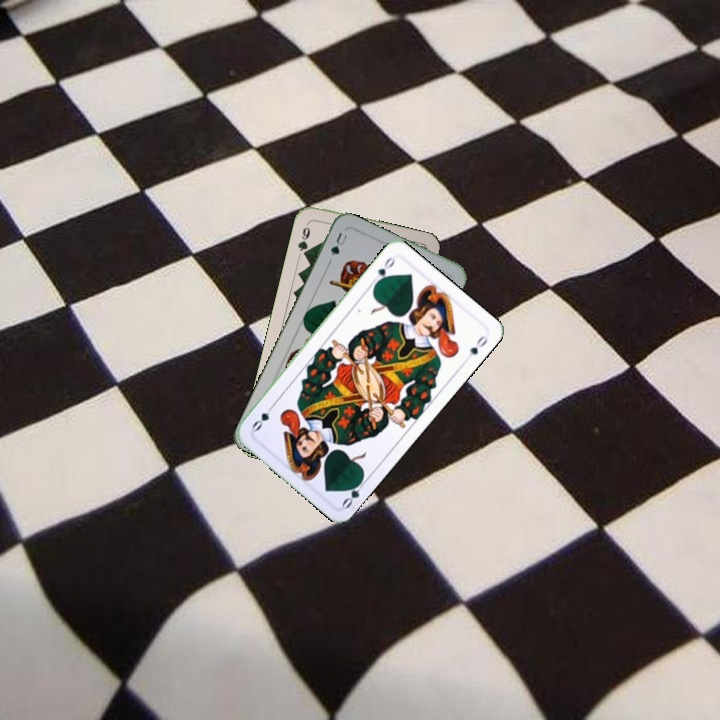G9: (294, 218, 313, 259)
GO: (338, 474, 370, 511), (367, 253, 398, 289)
GU: (326, 228, 350, 258)
